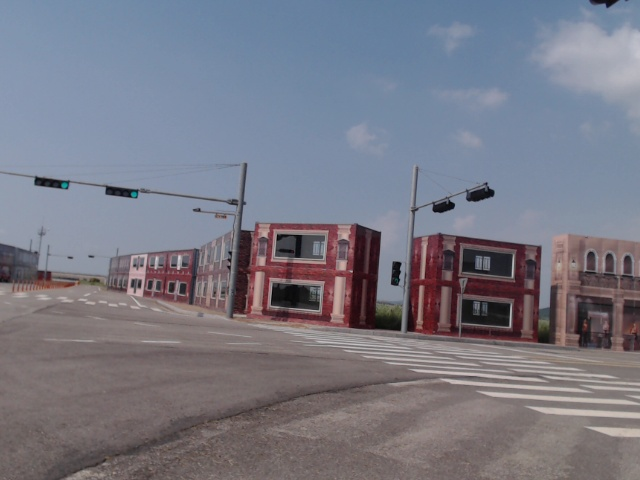straight_green_4: (36, 176, 71, 191), (105, 185, 138, 199)
